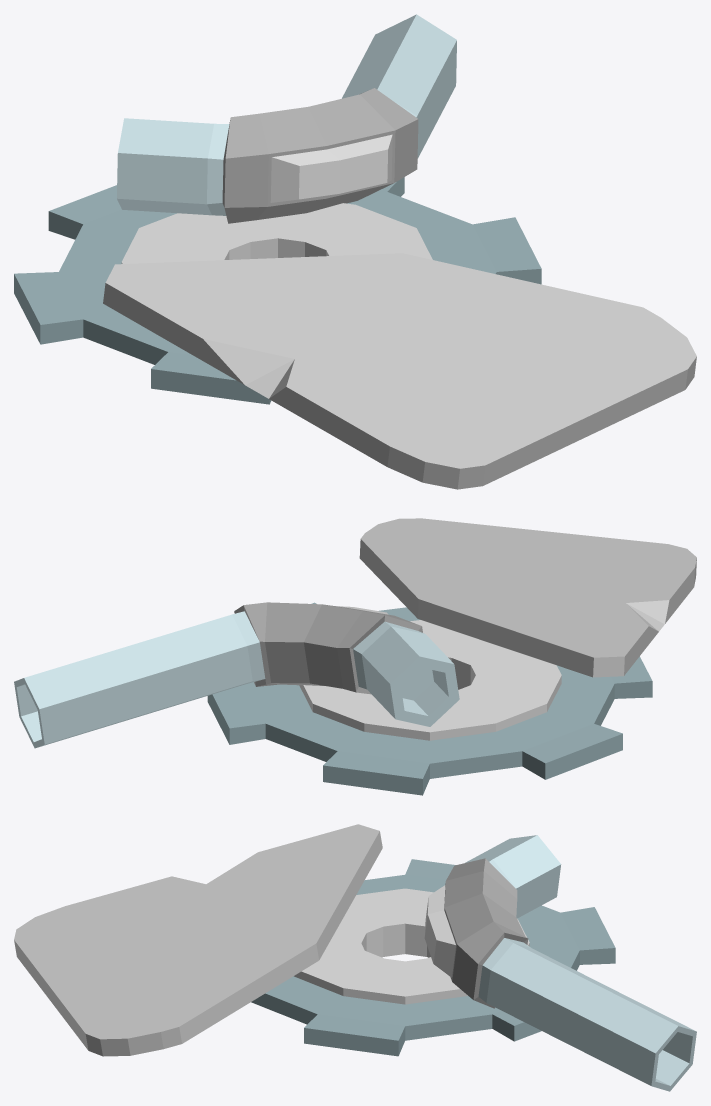
The model's file is Metallic part 7.fbx.
3 views of the same model, one above another, from view 1: azimuth 30°, elevation 25°; view 2: azimuth 150°, elevation 25°; view 3: azimuth 270°, elevation 25° (orthographic). The views are drawn at different scales.
Parts seen in each view (by area): view 1: Metallic part 7; view 2: Metallic part 7; view 3: Metallic part 7.
Part boxes in pixels (box(x1,y1,x2,y2)): Metallic part 7: box(14, 14, 696, 489); Metallic part 7: box(14, 518, 696, 795); Metallic part 7: box(14, 824, 696, 1091).
Bounding box in the file's own units: 14.52 × 3.57 × 18.91.
